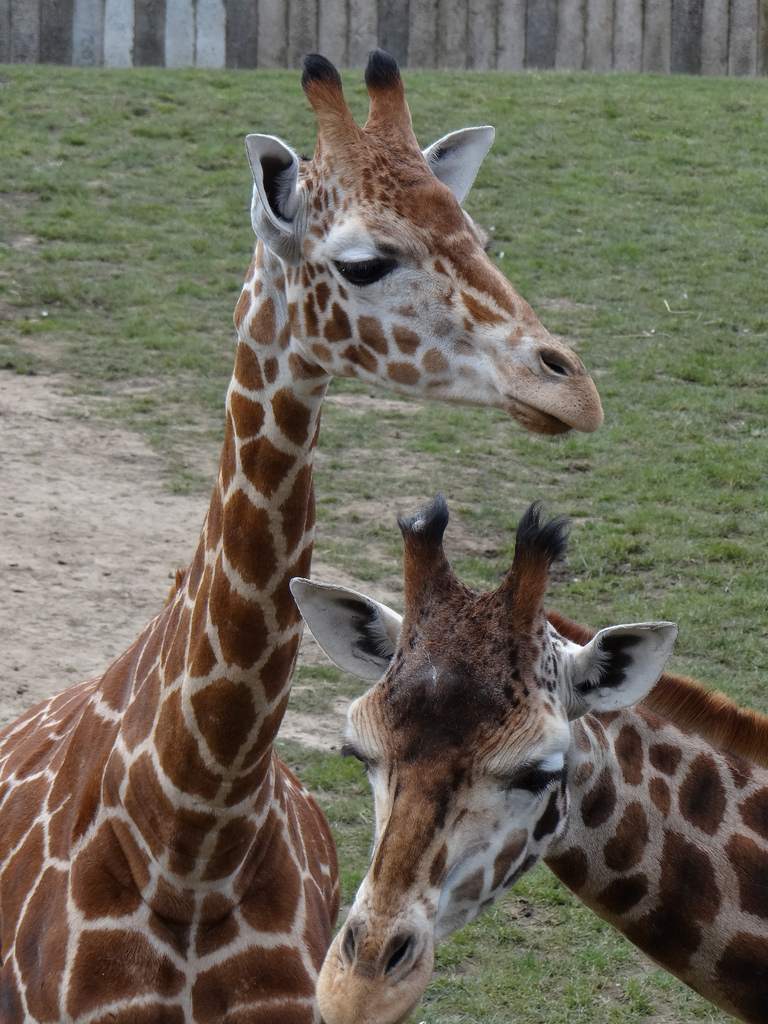giraffe: (44, 47, 581, 969), (307, 515, 748, 1020)
